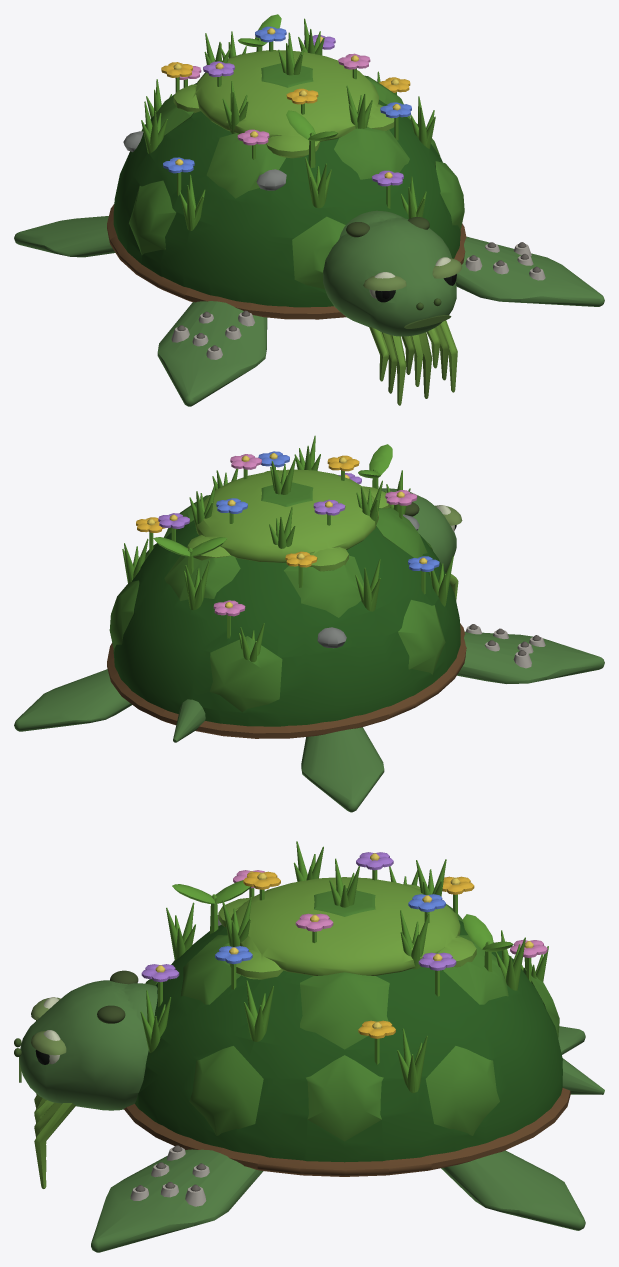
The model's file is verdatide.glb.
The picture shows the model from 3 angles, top to bottom: view 1: azimuth 30°, elevation 25°; view 2: azimuth 150°, elevation 25°; view 3: azimuth 270°, elevation 25°; orthographic projection. The views are drawn at different scales.
Visible parts, largest first — view 1: creature; view 2: creature; view 3: creature.
Boxes of the visible parts, x1,y1,x2,y2 form: creature: (14,14,604,406); creature: (14,435,604,812); creature: (14,841,604,1252).
Bounding box in the file's own units: 1.65 × 1 × 1.74.
